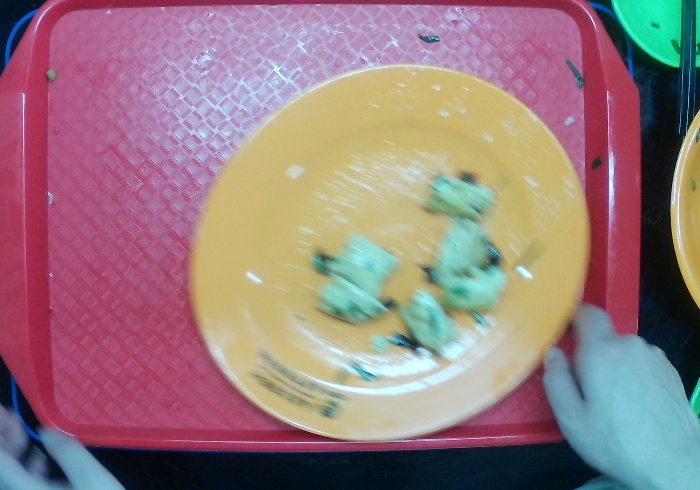YKMZ-Ju_Se_Mian_Pan: (181, 61, 592, 445)
